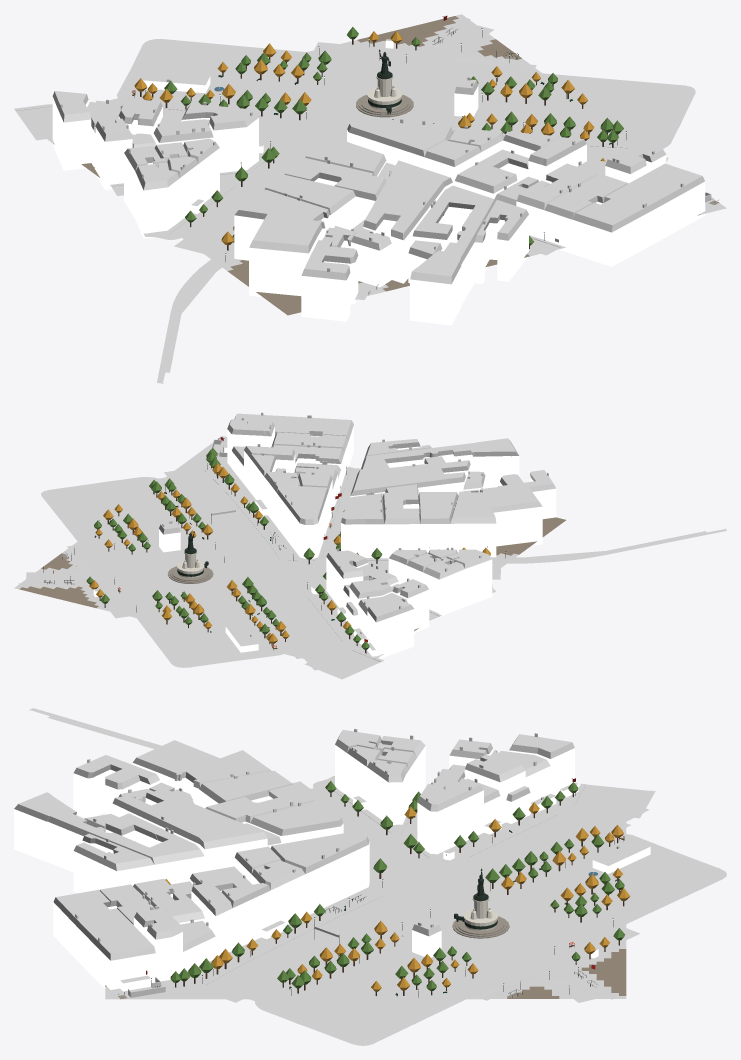
Rendered from zone_A2.glb.
3 views of the same model, one above another, from view 1: azimuth 30°, elevation 25°; view 2: azimuth 150°, elevation 25°; view 3: azimuth 270°, elevation 25° (orthographic). The views are drawn at different scales.
Parts seen in each view (by area): view 1: zone_A2_batiments, zone_A2_sol_NOCOL, zone_A2_decor_NOCOL, zone_A2_terrain; view 2: zone_A2_batiments, zone_A2_sol_NOCOL, zone_A2_decor_NOCOL, zone_A2_terrain; view 3: zone_A2_batiments, zone_A2_sol_NOCOL, zone_A2_decor_NOCOL, zone_A2_terrain.
Boxes of the visible parts, x1,y1,x2,y2 form: zone_A2_batiments: [52, 39, 711, 325]; zone_A2_sol_NOCOL: [14, 18, 719, 383]; zone_A2_decor_NOCOL: [134, 27, 718, 289]; zone_A2_terrain: [47, 14, 726, 315]; zone_A2_batiments: [93, 412, 556, 658]; zone_A2_sol_NOCOL: [18, 440, 726, 679]; zone_A2_decor_NOCOL: [43, 438, 506, 653]; zone_A2_terrain: [14, 436, 566, 658]; zone_A2_batiments: [14, 728, 650, 997]; zone_A2_sol_NOCOL: [28, 708, 726, 1045]; zone_A2_decor_NOCOL: [118, 781, 630, 997]; zone_A2_terrain: [105, 817, 626, 999].
Bounding box in the file's own units: 322 × 26.99 × 287.
